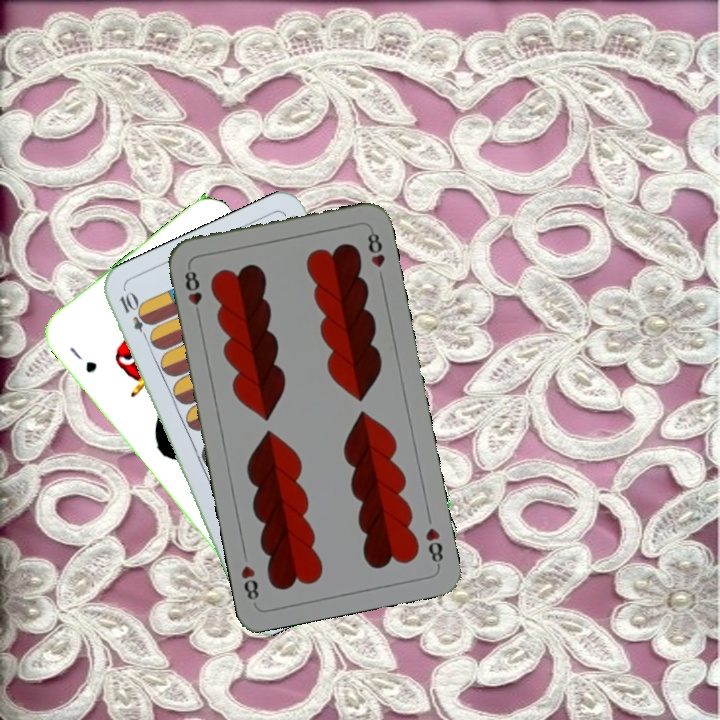E10: (115, 288, 154, 345)
GU: (65, 342, 100, 376)
H8: (181, 262, 205, 321), (421, 523, 446, 569)
